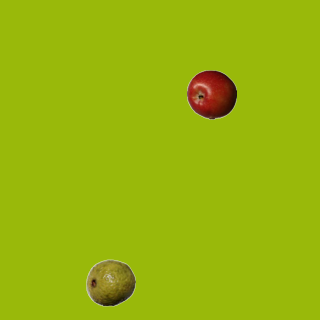Apple Braeburn: (186, 69, 236, 119)
Guava: (85, 257, 135, 307)
